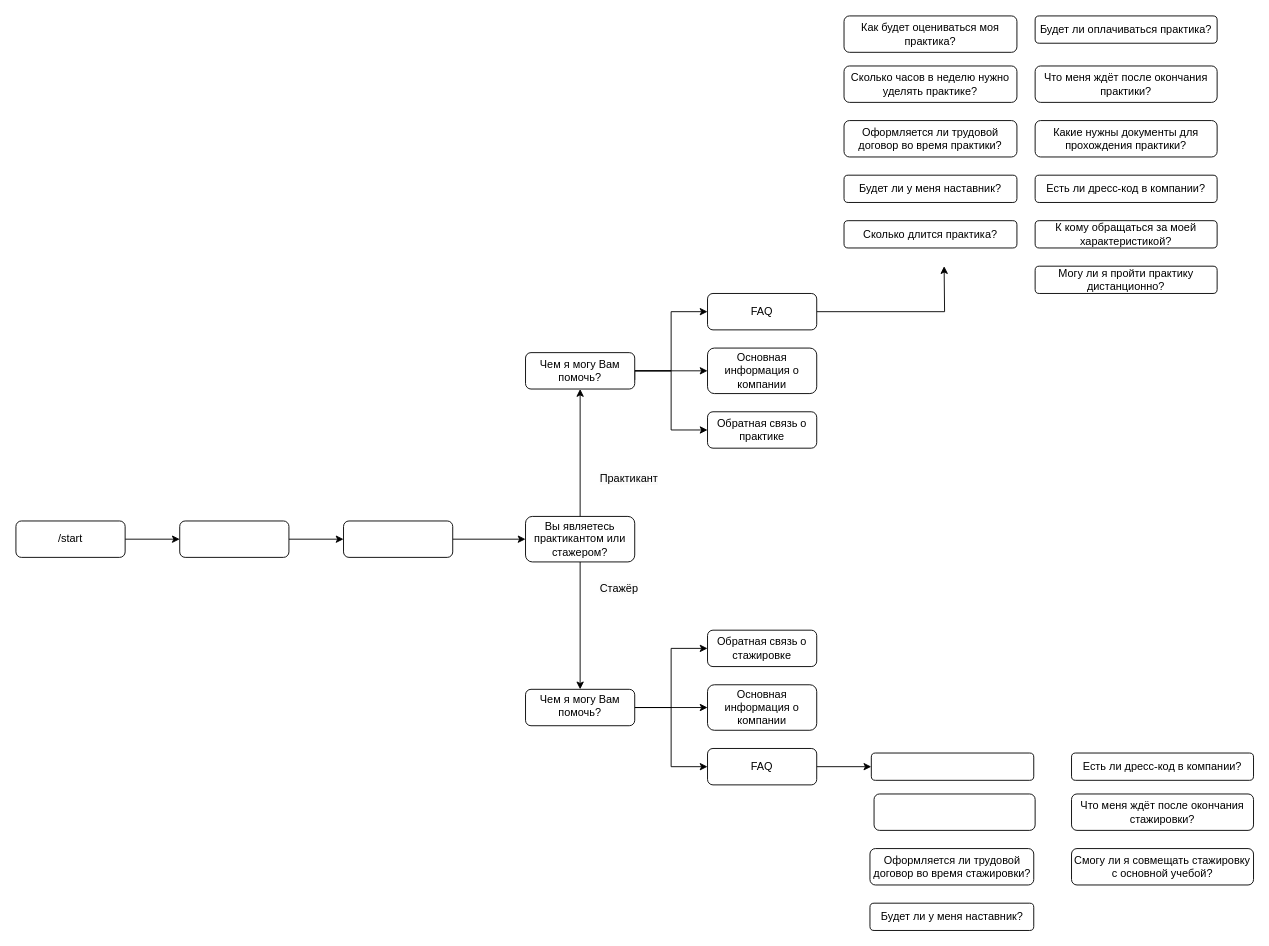
Some shapes in this 1269 by 946 pixel diagram are drawn without their labels. The box of each missing label's shape, as (x1, y1, x2, y2) in pixels:
Какие нужны документы для прохождения стажировки?: (873, 793, 1035, 830)
Приветственное сообщение: (179, 520, 289, 557)
Регистрация пользователя: (343, 520, 453, 557)
Сколько длится стажировка?: (870, 752, 1034, 780)
